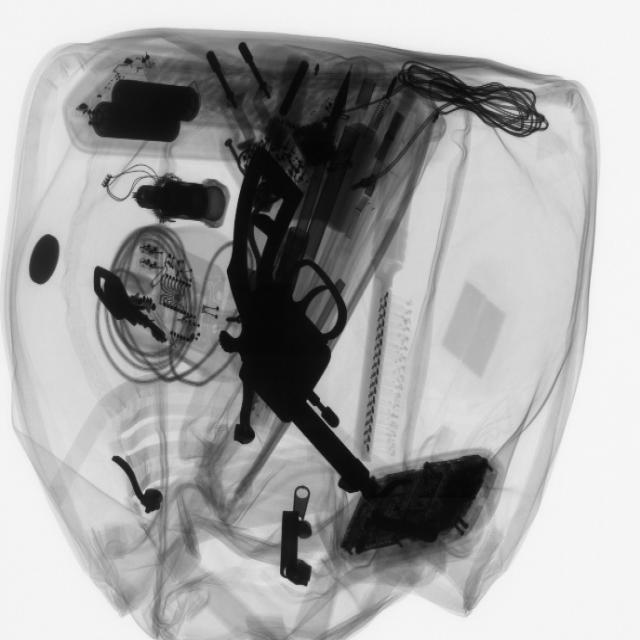GUN: (222, 119, 373, 526)
